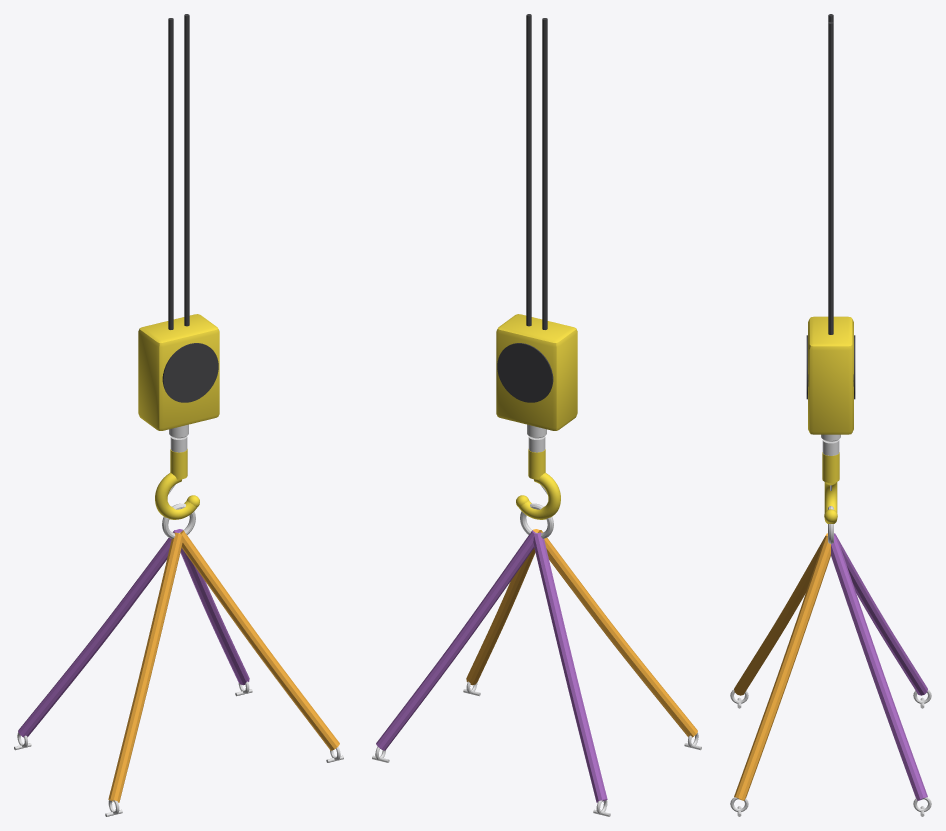
File: crane_hook.glb
3 renders of one model, left to right at view 1: azimuth 30°, elevation 25°; view 2: azimuth 150°, elevation 25°; view 3: azimuth 270°, elevation 25°, orthographic.
Parts seen in each view (by area): view 1: crane_hook; view 2: crane_hook; view 3: crane_hook.
Part boxes in pixels (bbox=[...]): crane_hook: bbox=[14, 14, 343, 816]; crane_hook: bbox=[372, 14, 701, 816]; crane_hook: bbox=[730, 14, 931, 816].
Bounding box in the file's own units: 0.6 × 1.78 × 0.4399.
